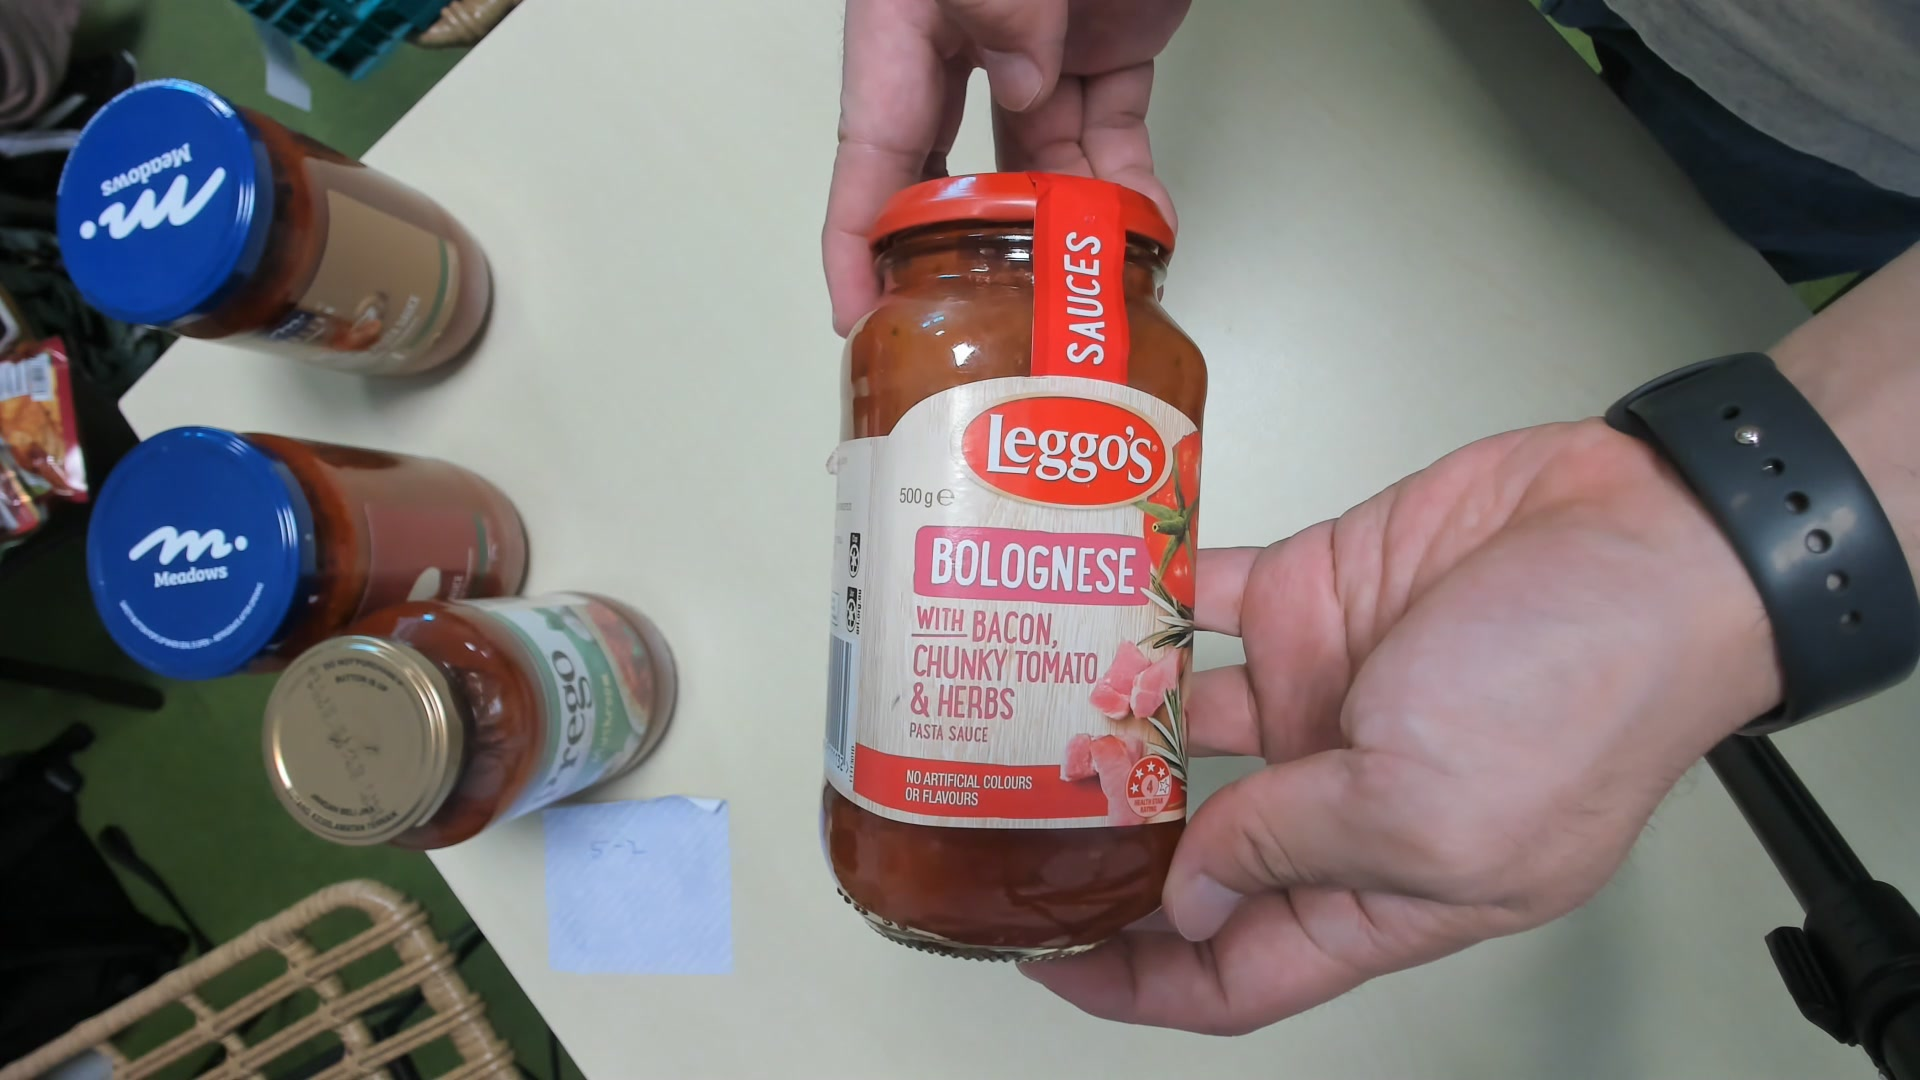PastaSauce_500-599g_Halal_NonHealthy: (836, 175, 1200, 945)
